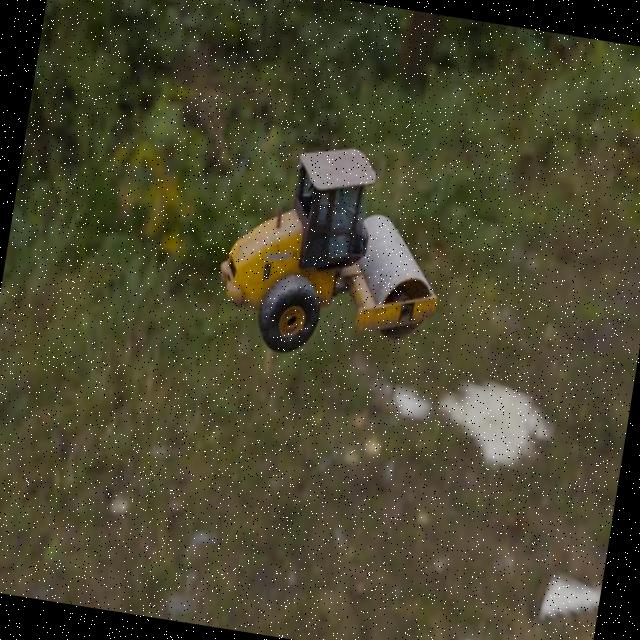Roller: (208, 130, 460, 376)
